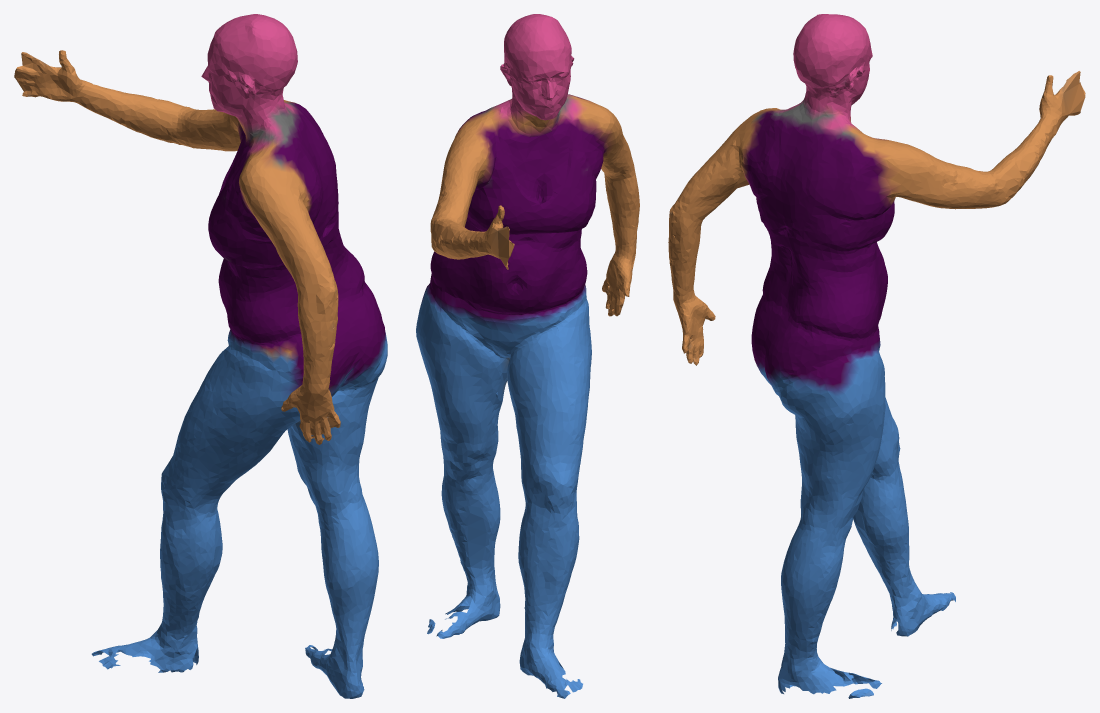
3 renders of one model, left to right at view 1: azimuth 30°, elevation 25°; view 2: azimuth 150°, elevation 25°; view 3: azimuth 270°, elevation 25°, orthographic. The views are drawn at different scales.
Visible parts, largest first — view 1: geometry_0.005; view 2: geometry_0.005; view 3: geometry_0.005.
Boxes of the visible parts, x1,y1,x2,y2 form: geometry_0.005: (14, 14, 387, 698); geometry_0.005: (416, 14, 639, 698); geometry_0.005: (668, 14, 1085, 698).
Size of the model in its own units: 0.6147 by 1.73 by 1.02.
